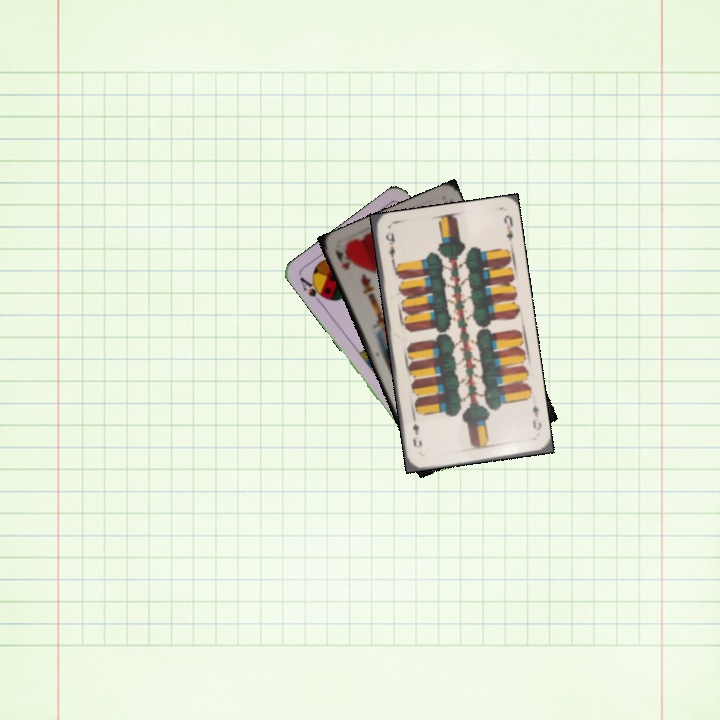E9: (382, 227, 398, 268), (528, 401, 544, 432)
HK: (331, 246, 353, 272)
SA: (295, 272, 330, 308)
